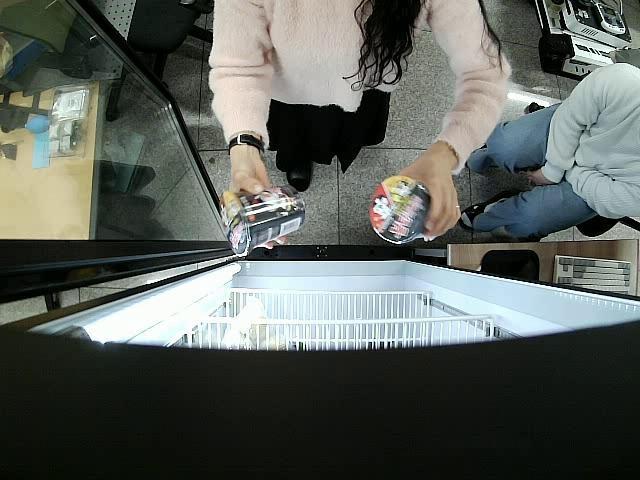08_buldak_S: (218, 181, 306, 252), (371, 176, 433, 244)
